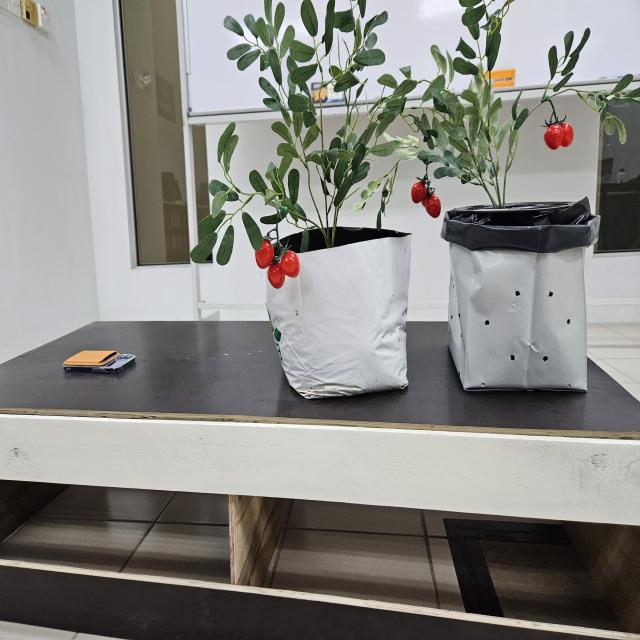Soilbag: (441, 200, 596, 396), (265, 227, 412, 400)
Tomato: (255, 238, 300, 289), (410, 169, 444, 221), (543, 122, 574, 151)
plant: (189, 0, 430, 291), (401, 0, 640, 219)
